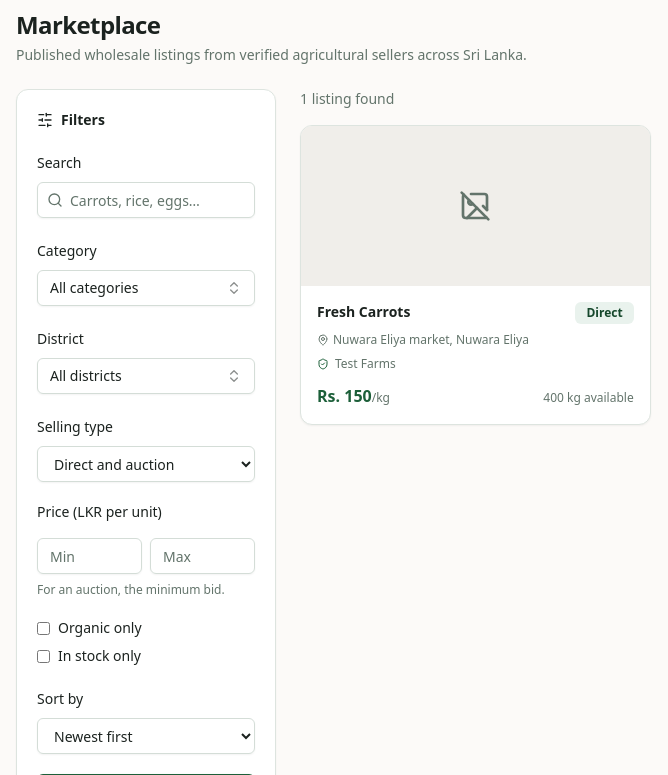
Test: MarketplaceView: the filter form › has a searchable category list from the backend, with an 'All categories' choice
Step 1. Click the dropdown named "Category" → click(146, 288), box [37,270,255,306]
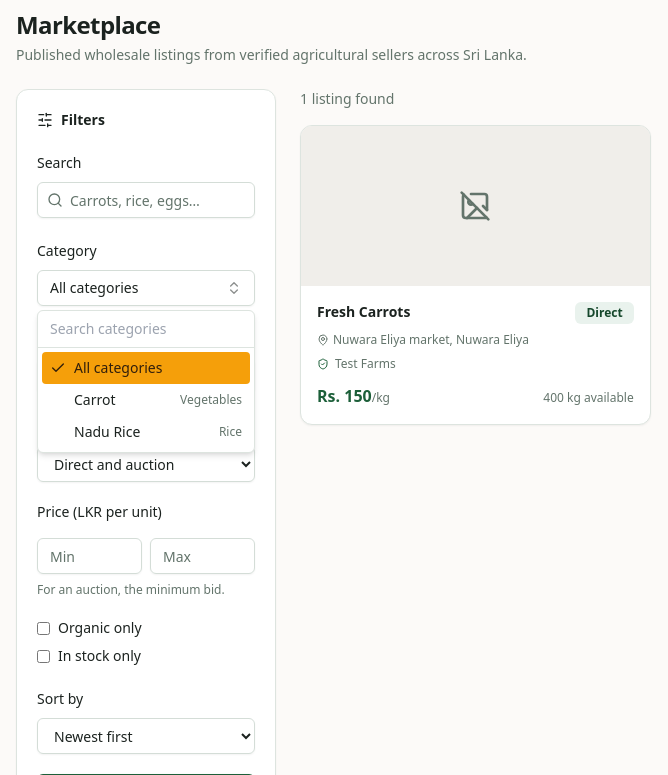
Step 2. Type "rice" into the field with placeholder "Search categories" → (146, 330), box [38,311,254,348]
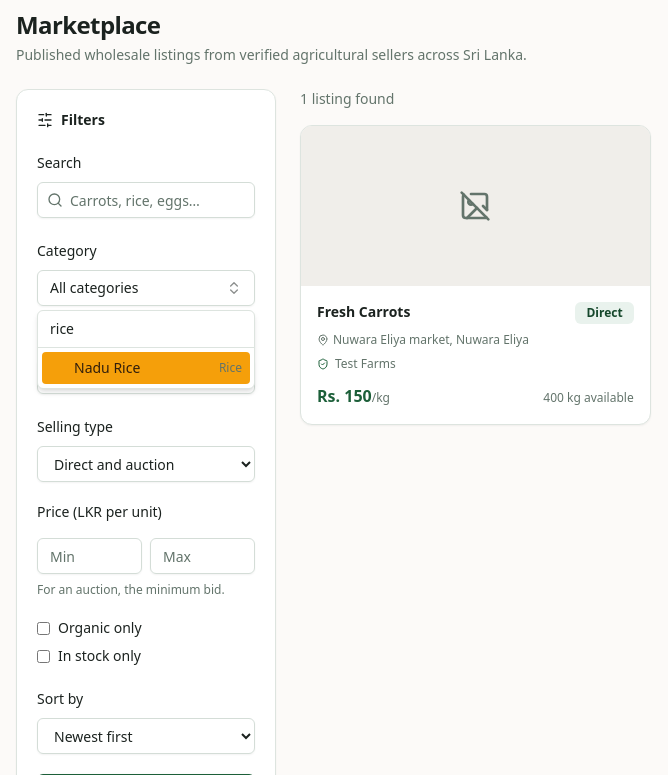
Expected: the number of options is 1, [42,352,250,384]
